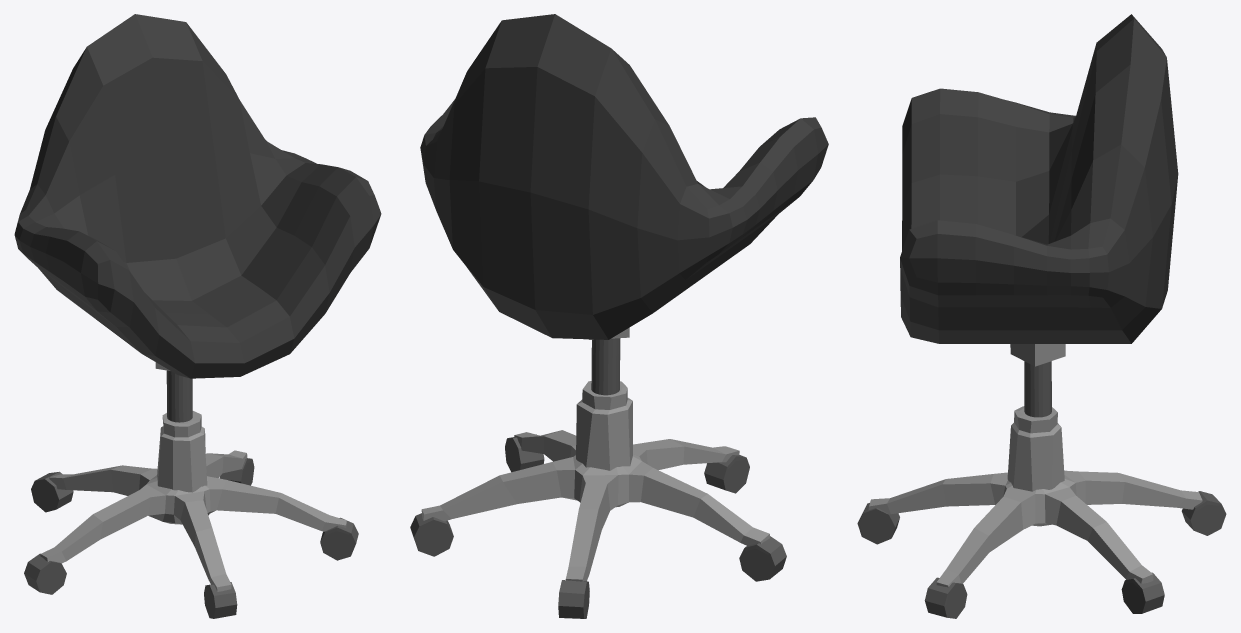
File: Chair_7.fbx
3 renders of one model, left to right at view 1: azimuth 30°, elevation 25°; view 2: azimuth 150°, elevation 25°; view 3: azimuth 270°, elevation 25°, orthographic. The views are drawn at different scales.
Visible parts, largest first — view 1: Chair_7; view 2: Chair_7; view 3: Chair_7.
Part boxes in pixels (bbox=[...]): Chair_7: bbox=[14, 14, 381, 618]; Chair_7: bbox=[410, 14, 828, 618]; Chair_7: bbox=[857, 14, 1226, 618].
Size of the model in its own units: 75.33 by 75.46 by 122.
